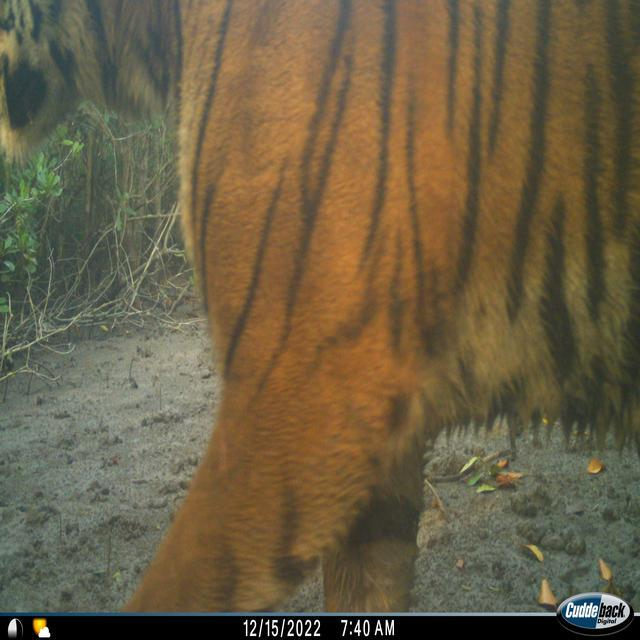tiger: (0, 0, 639, 613)
